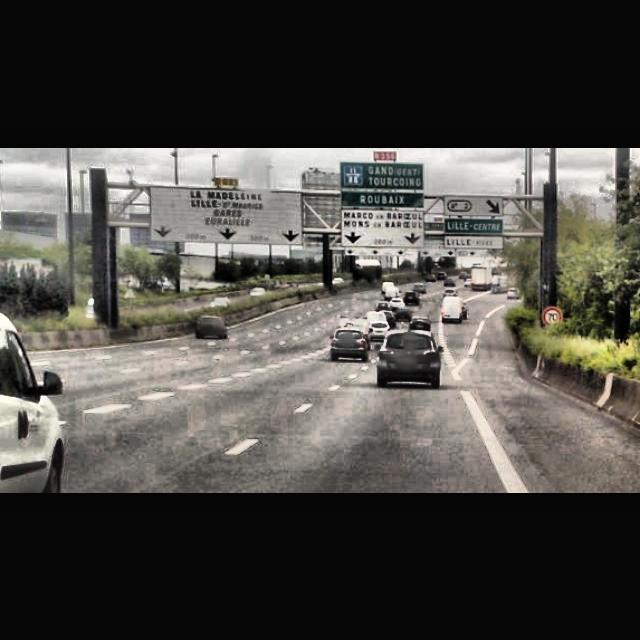speed_70: (544, 306, 562, 324)
